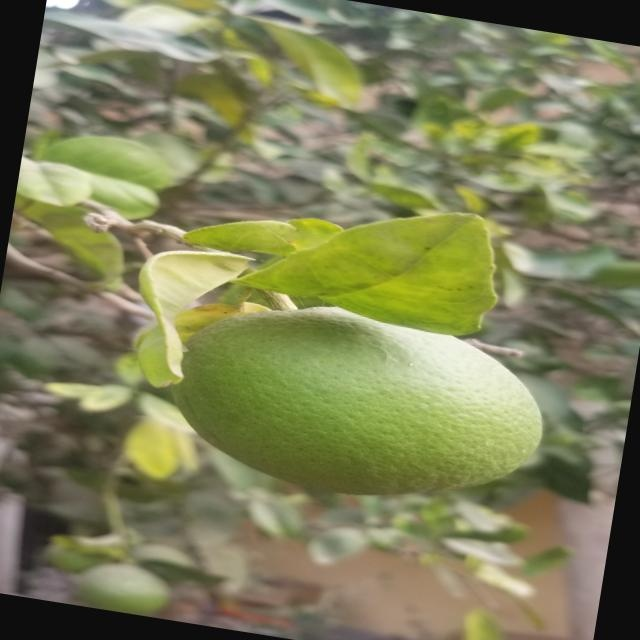agrume: (156, 281, 578, 543)
